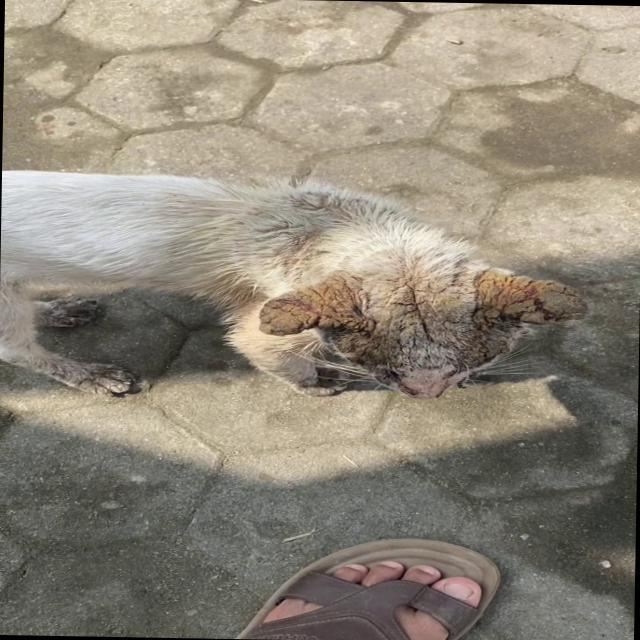ghe: (466, 267, 588, 338), (250, 290, 379, 347), (388, 265, 458, 355)
